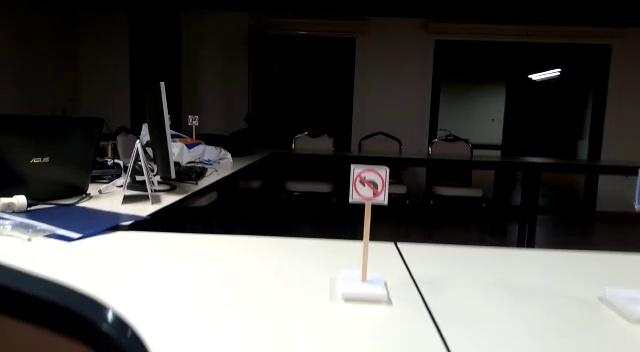sola_donulmez: (350, 163, 388, 202)
